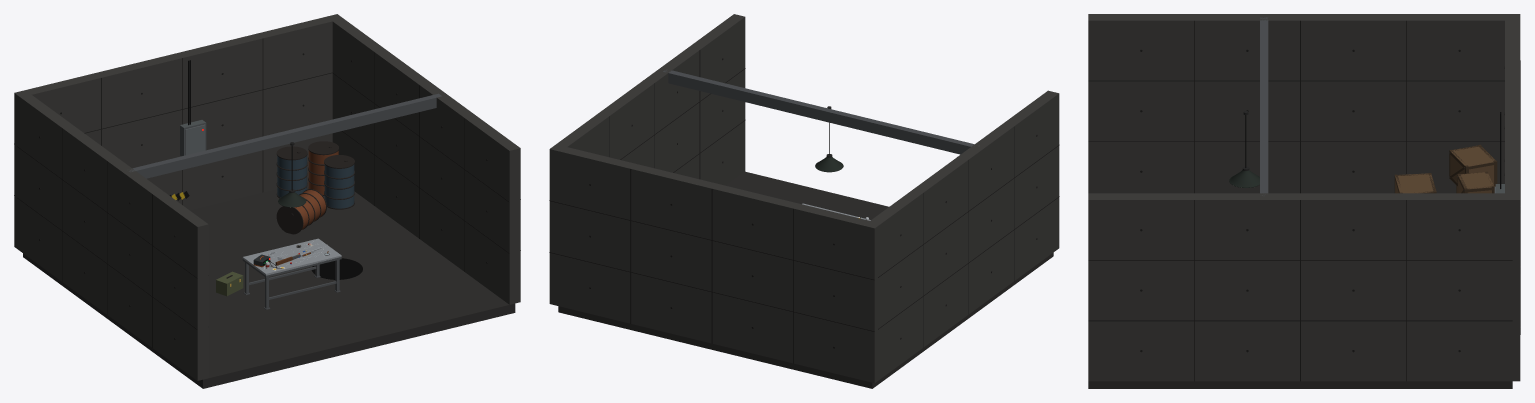
The model's file is environnement-salle (1).glb.
The picture shows the model from 3 angles, left to right: view 1: azimuth 30°, elevation 25°; view 2: azimuth 150°, elevation 25°; view 3: azimuth 270°, elevation 25°; orthographic projection. The views are drawn at different scales.
Parts seen in each view (by area): view 1: sol, mur_fond_dalle, mur_gauche_dalle, mur_droit_dalle, poutre_acier, fut_corps (×4), plateau, flaque_huile, fut_dessus, coffret_porte; view 2: mur_fond_dalle, mur_gauche_dalle, mur_droit_dalle, sol, poutre_acier, joint_h; view 3: mur_droit_dalle, mur_gauche_dalle, mur_fond_dalle, sol, joint_h (×4), planches (×3), poutre_acier, abat_jour.
Boxes of the visible parts, x1,y1,x2,y2 form: sol: [23, 181, 515, 388]; mur_fond_dalle: [14, 14, 342, 251]; mur_gauche_dalle: [17, 95, 208, 380]; mur_droit_dalle: [331, 16, 520, 304]; poutre_acier: [129, 93, 441, 178]; fut_corps (×4): [277, 150, 354, 229]; plateau: [242, 238, 341, 275]; flaque_huile: [311, 258, 362, 279]; fut_dessus: [276, 206, 303, 234]; coffret_porte: [185, 124, 205, 155]; mur_fond_dalle: [549, 144, 881, 383]; mur_gauche_dalle: [868, 90, 1059, 379]; mur_droit_dalle: [556, 14, 745, 185]; sol: [558, 171, 1053, 388]; poutre_acier: [663, 69, 979, 154]; joint_h: [549, 200, 874, 280]; mur_droit_dalle: [1088, 193, 1512, 381]; mur_gauche_dalle: [1088, 14, 1512, 193]; mur_fond_dalle: [1505, 14, 1520, 381]; sol: [1088, 381, 1512, 388]; joint_h (×4): [1088, 80, 1512, 321]; planches (×3): [1395, 146, 1494, 193]; poutre_acier: [1260, 17, 1268, 195]; abat_jour: [1229, 170, 1259, 187].
Size of the model in its own units: 7.26 by 3.5 by 7.13.
